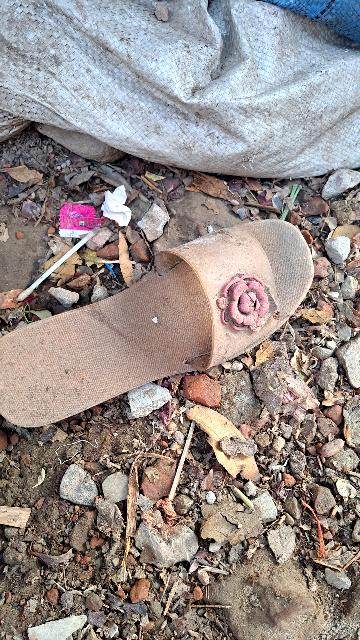sandal: (0, 191, 350, 447)
